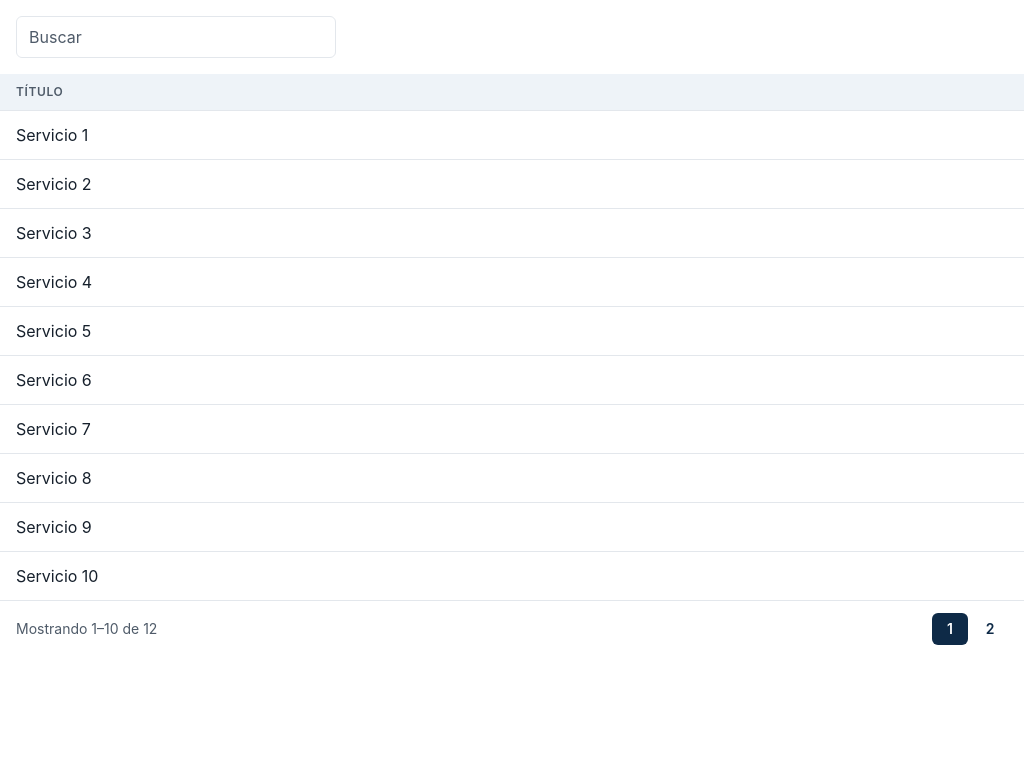
it: pagina
The width and height of the screenshot is (1024, 768).
Click the button named "Página 2": (990, 629) x1=972 y1=613 x2=1008 y2=645
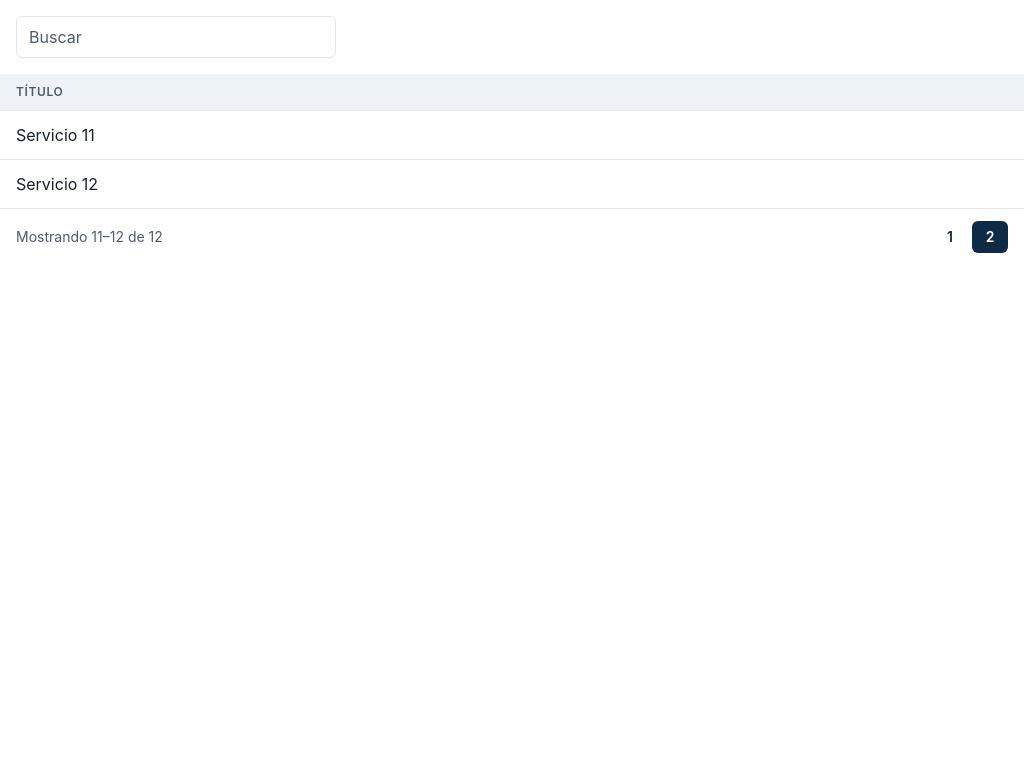
Result: the text "Servicio 11" is shown at x1=0 y1=110 x2=1023 y2=160
